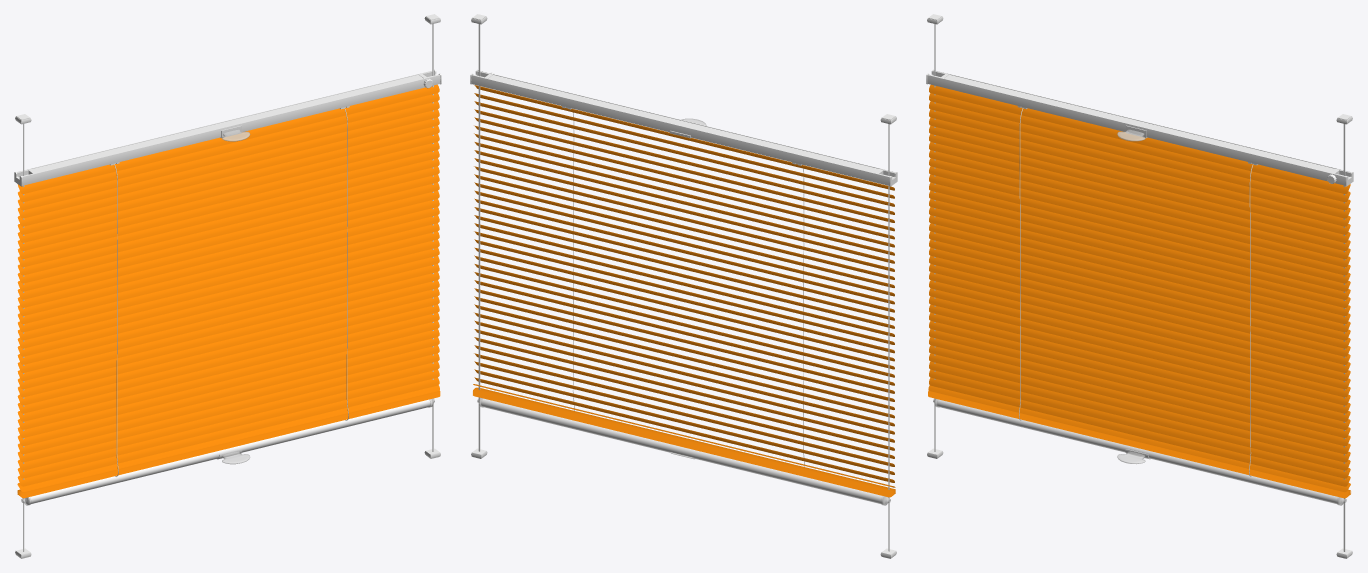
The model's file is 8700 Verspannte Jalousie Duoflex.glb.
The picture shows the model from 3 angles, left to right: view 1: azimuth 30°, elevation 25°; view 2: azimuth 150°, elevation 25°; view 3: azimuth 330°, elevation 25°; orthographic projection.
Parts seen in each view (by area): view 1: Top Balken, jalousie.065, jalousie.022, jalousie.012, jalousie.058, jalousie.057, jalousie.029, jalousie.021, jalousie.010, jalousie.009, jalousie.061, jalousie.027 (+33 smaller); view 2: Top Balken, balken unten.002, jalousie.053, jalousie.014, jalousie.025, jalousie.063, jalousie.028, jalousie.027, jalousie.024, jalousie.023, jalousie.016, jalousie.073 (+35 smaller); view 3: Top Balken, jalousie.065, jalousie.058, jalousie.009, jalousie.056, jalousie.024, jalousie.022, jalousie.015, jalousie.064, jalousie.063, jalousie.062, jalousie.057 (+33 smaller).
Part boxes in pixels (x1,y1,x2,y2): Top Balken: [17, 71, 440, 185]; jalousie.065: [17, 84, 439, 193]; jalousie.022: [17, 207, 439, 315]; jalousie.012: [17, 304, 439, 413]; jalousie.058: [17, 142, 439, 250]; jalousie.057: [17, 150, 439, 258]; jalousie.029: [17, 264, 439, 372]; jalousie.021: [17, 198, 439, 307]; jalousie.010: [17, 320, 439, 429]; jalousie.009: [17, 329, 439, 437]; jalousie.061: [17, 117, 439, 226]; jalousie.027: [17, 247, 439, 356]; Top Balken: [471, 70, 895, 185]; balken unten.002: [481, 398, 887, 504]; jalousie.053: [473, 387, 895, 493]; jalousie.014: [474, 288, 894, 393]; jalousie.025: [474, 231, 894, 336]; jalousie.063: [474, 101, 894, 206]; jalousie.028: [474, 255, 894, 361]; jalousie.027: [474, 247, 894, 353]; jalousie.024: [474, 223, 894, 328]; jalousie.023: [474, 215, 894, 320]; jalousie.016: [474, 272, 894, 377]; jalousie.073: [474, 369, 894, 474]; Top Balken: [927, 70, 1350, 185]; jalousie.065: [929, 84, 1350, 194]; jalousie.058: [929, 142, 1350, 250]; jalousie.009: [929, 329, 1350, 437]; jalousie.056: [929, 158, 1350, 267]; jalousie.024: [929, 223, 1350, 332]; jalousie.022: [929, 207, 1350, 315]; jalousie.015: [929, 280, 1350, 389]; jalousie.064: [929, 93, 1350, 202]; jalousie.063: [929, 101, 1350, 210]; jalousie.062: [929, 109, 1350, 218]; jalousie.057: [929, 150, 1350, 259].
Size of the model in its own units: 0.9999 by 0.9988 by 0.0725.
Materials: 4 (1 with a texture image).
